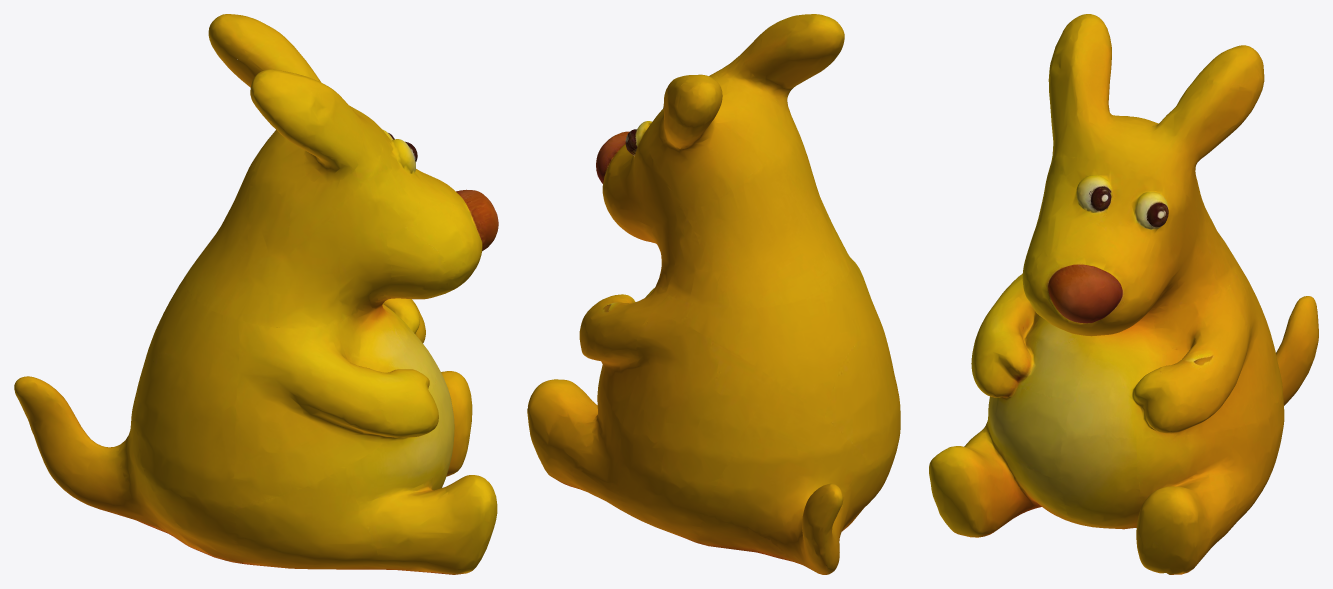
The model's file is dudu.glb.
3 renders of one model, left to right at view 1: azimuth 30°, elevation 25°; view 2: azimuth 150°, elevation 25°; view 3: azimuth 270°, elevation 25°, orthographic. The views are drawn at different scales.
Parts seen in each view (by area): view 1: dudu; view 2: dudu; view 3: dudu.
Boxes of the visible parts, bbox=[...] form: dudu: bbox=[14, 14, 498, 574]; dudu: bbox=[527, 14, 900, 574]; dudu: bbox=[929, 14, 1318, 574].
Bounding box in the file's own units: 1.64 × 1.96 × 1.52.
Materials: 1 (1 with a texture image).
